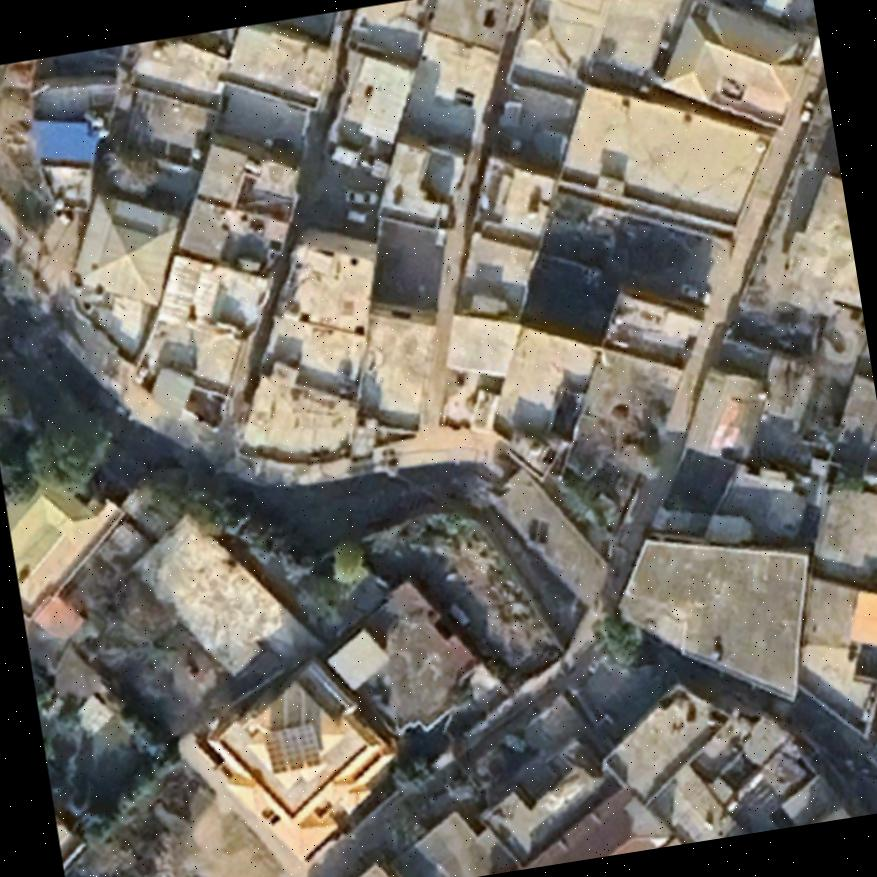Solarpanel: (258, 716, 326, 776)
